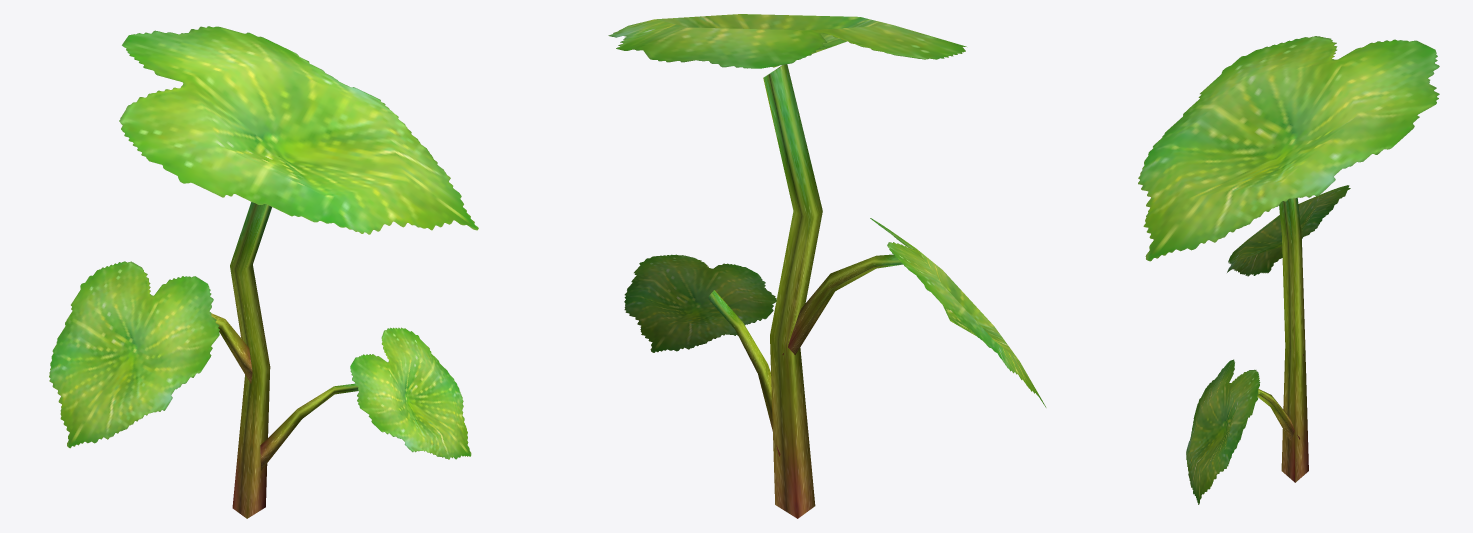
The model's file is F01_plant07.FBX.
3 renders of one model, left to right at view 1: azimuth 30°, elevation 25°; view 2: azimuth 150°, elevation 25°; view 3: azimuth 270°, elevation 25°, orthographic. The views are drawn at different scales.
Visible parts, largest first — view 1: F01_plant07; view 2: F01_plant07; view 3: F01_plant07.
Boxes of the visible parts, x1,y1,x2,y2 form: F01_plant07: (49, 26, 478, 518); F01_plant07: (608, 14, 1046, 518); F01_plant07: (1138, 36, 1439, 504).
Bounding box in the file's own units: 374 × 379 × 309.
